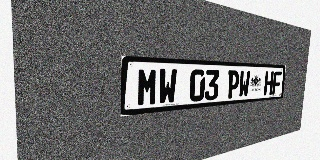0: (189, 69, 206, 102)
3: (204, 70, 219, 101)
F: (272, 71, 282, 95)
H: (263, 71, 274, 95)
M: (137, 68, 158, 107)
P: (226, 70, 240, 99)
W: (158, 68, 177, 105), (238, 70, 250, 98)
